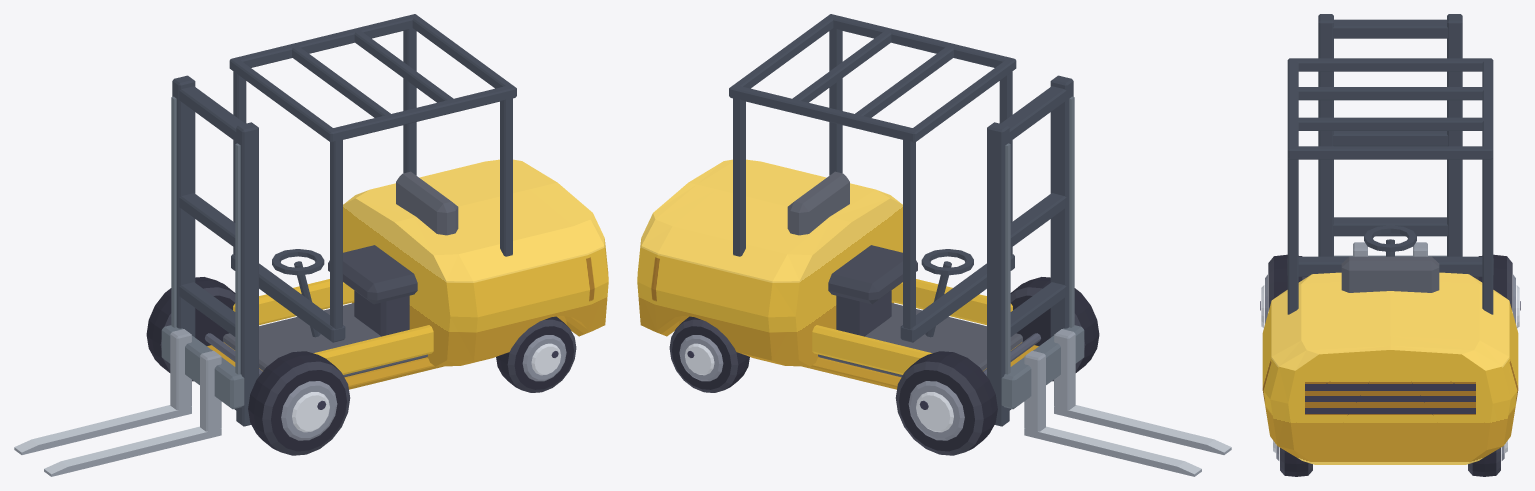
The model's file is forklift-v2.glb.
The picture shows the model from 3 angles, left to right: view 1: azimuth 30°, elevation 25°; view 2: azimuth 150°, elevation 25°; view 3: azimuth 270°, elevation 25°; orthographic projection.
Parts seen in each view (by area): view 1: Body_static, FixedMast_Paint, Carriage_Paint, Wheel_FL_tire_hub, Wheel_RL_tire_hub, InnerRails_Paint, Wheel_FR_tire_hub; view 2: Body_static, FixedMast_Paint, Carriage_Paint, Wheel_FR_tire_hub, Wheel_RR_tire_hub, InnerRails_Paint, Wheel_FL_tire_hub; view 3: Body_static, FixedMast_Paint, Wheel_FL_tire_hub, Wheel_FR_tire_hub, Wheel_RL_tire_hub, Wheel_RR_tire_hub, Carriage_Paint.
Boxes of the visible parts, bbox=[...] form: Body_static: bbox=[205, 14, 608, 389]; FixedMast_Paint: bbox=[172, 75, 258, 426]; Carriage_Paint: bbox=[14, 325, 244, 476]; Wheel_FL_tire_hub: bbox=[248, 351, 350, 455]; Wheel_RL_tire_hub: bbox=[496, 316, 576, 392]; InnerRails_Paint: bbox=[171, 96, 240, 374]; Wheel_FR_tire_hub: bbox=[146, 277, 235, 381]; Body_static: bbox=[637, 14, 1040, 389]; FixedMast_Paint: bbox=[987, 75, 1073, 426]; Carriage_Paint: bbox=[1001, 325, 1231, 476]; Wheel_FR_tire_hub: bbox=[895, 351, 997, 455]; Wheel_RR_tire_hub: bbox=[669, 316, 749, 392]; InnerRails_Paint: bbox=[1005, 96, 1074, 374]; Wheel_FL_tire_hub: bbox=[1010, 277, 1099, 381]; Body_static: bbox=[1262, 58, 1518, 464]; FixedMast_Paint: bbox=[1318, 14, 1462, 256]; Wheel_FL_tire_hub: bbox=[1260, 254, 1306, 328]; Wheel_FR_tire_hub: bbox=[1474, 254, 1520, 328]; Wheel_RL_tire_hub: bbox=[1273, 440, 1312, 476]; Wheel_RR_tire_hub: bbox=[1468, 440, 1507, 476]; Carriage_Paint: bbox=[1334, 242, 1446, 256].
Bounding box in the file's own units: 64.35 × 37.39 × 27.44.
Materials: 1 (1 with a texture image).
